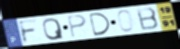0: (115, 9, 137, 34)
B: (134, 7, 160, 32)
D: (87, 12, 112, 37)
F: (17, 18, 40, 45)
P: (65, 14, 88, 39)
Q: (42, 17, 66, 41)
